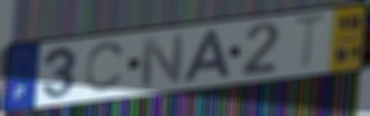2: (241, 21, 284, 79)
3: (39, 45, 82, 101)
A: (179, 28, 234, 85)
C: (82, 39, 129, 95)
N: (139, 31, 186, 90)
T: (290, 12, 330, 73)
